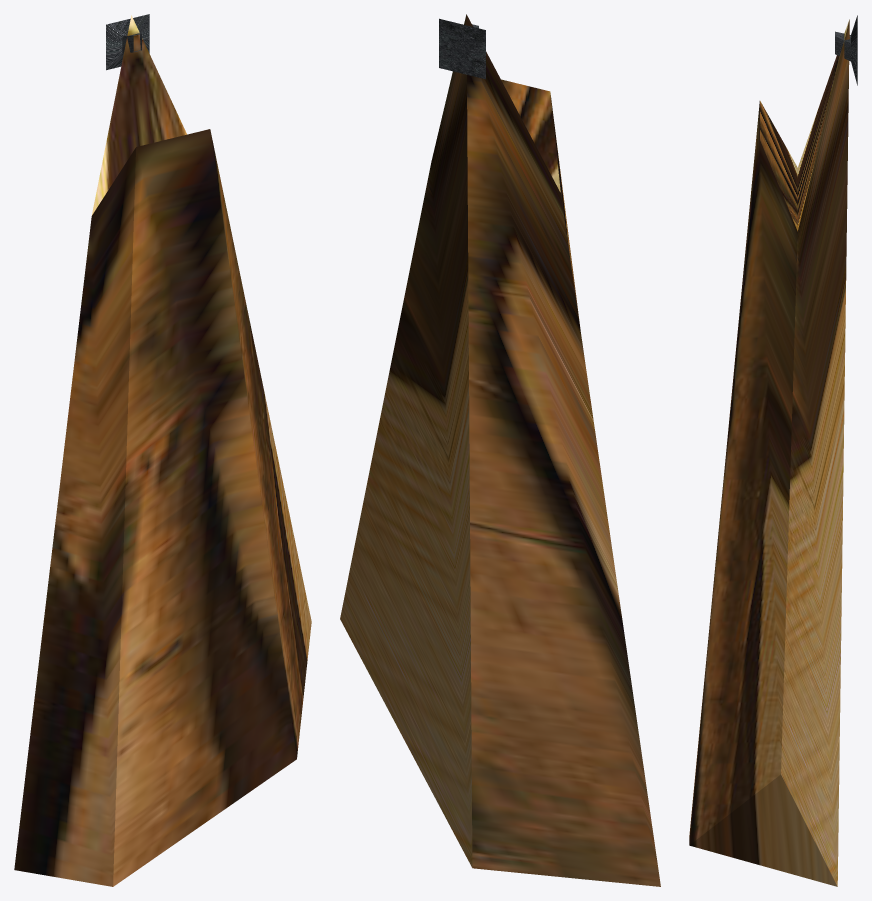
The model's file is coat.fbx.
3 renders of one model, left to right at view 1: azimuth 30°, elevation 25°; view 2: azimuth 150°, elevation 25°; view 3: azimuth 270°, elevation 25°, orthographic. The views are drawn at different scales.
Visible parts, largest first — view 1: Cylinder, Cube; view 2: Cylinder, Cube; view 3: Cylinder, Cube.
Part boxes in pixels (x1,y1,x2,y2): Cylinder: (14,15,311,886); Cube: (106,14,149,70); Cylinder: (340,14,660,886); Cube: (439,18,485,79); Cylinder: (689,19,849,886); Cube: (835,15,857,85).
Size of the model in its own units: 633 by 1617 by 284.
